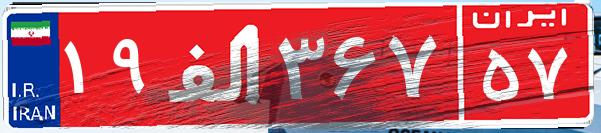1: (57, 26, 110, 107)
3: (273, 28, 330, 110)
5: (475, 38, 525, 113)
6: (330, 28, 385, 110)
7: (385, 28, 445, 110), (525, 38, 570, 115)
9: (110, 28, 158, 105)
الف: (158, 15, 273, 115)
